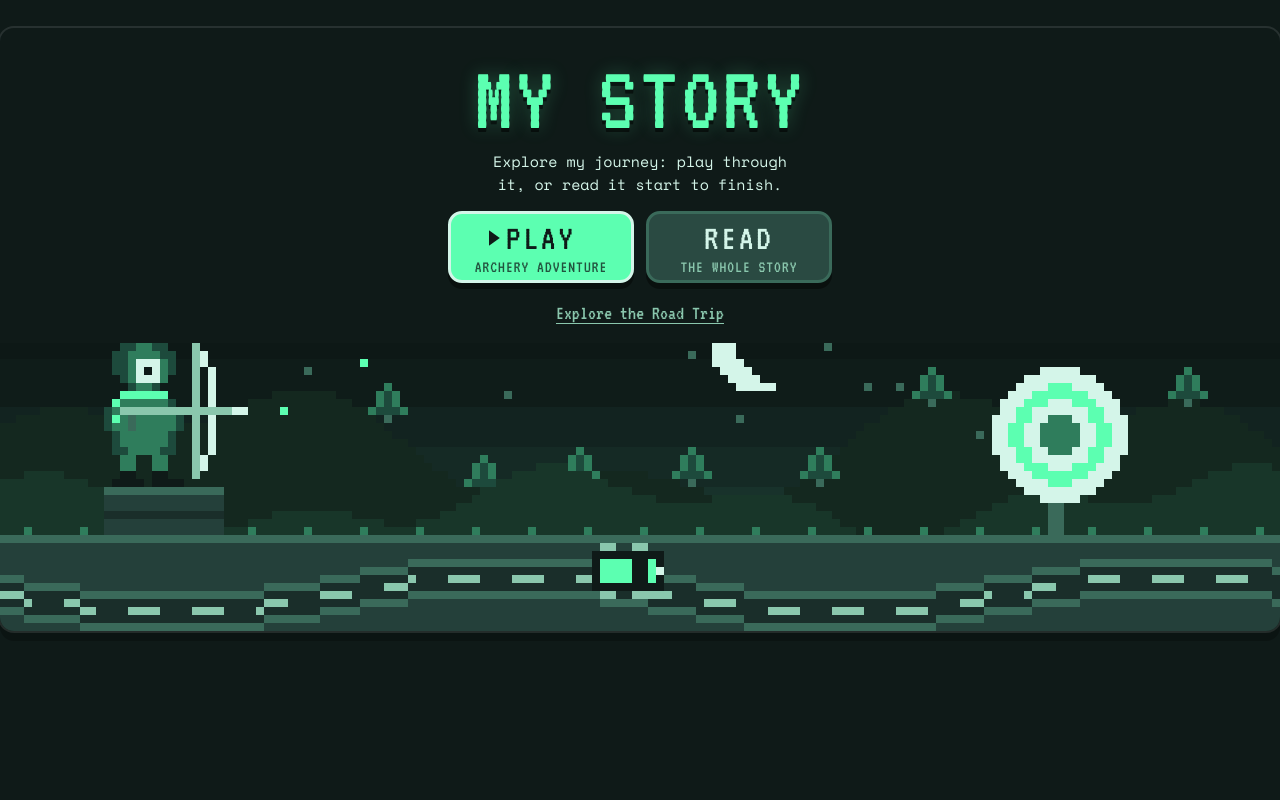
opening it › opening and closing a lot never leaves a dialog or a map behind
The image size is (1280, 800).
Earlier steps of the test are not shown.
Click the button "Explore the Road Trip" at point(640, 313), box left=544, top=291, right=736, bottom=335
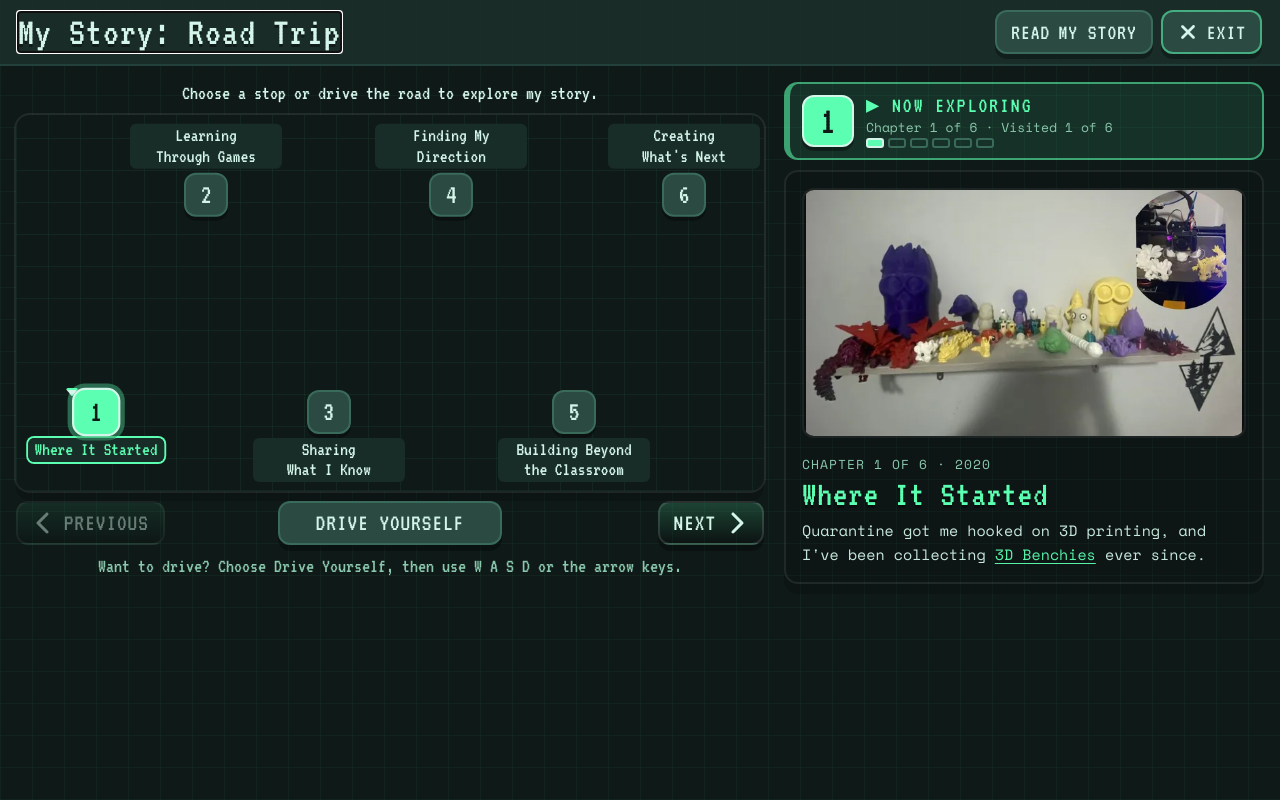
Expected: the dialog "My Story: Road Trip" is shown
Expected: the number of dialogs is 1
Click the button "Exit" at point(1211, 32), box left=1161, top=10, right=1262, bottom=54
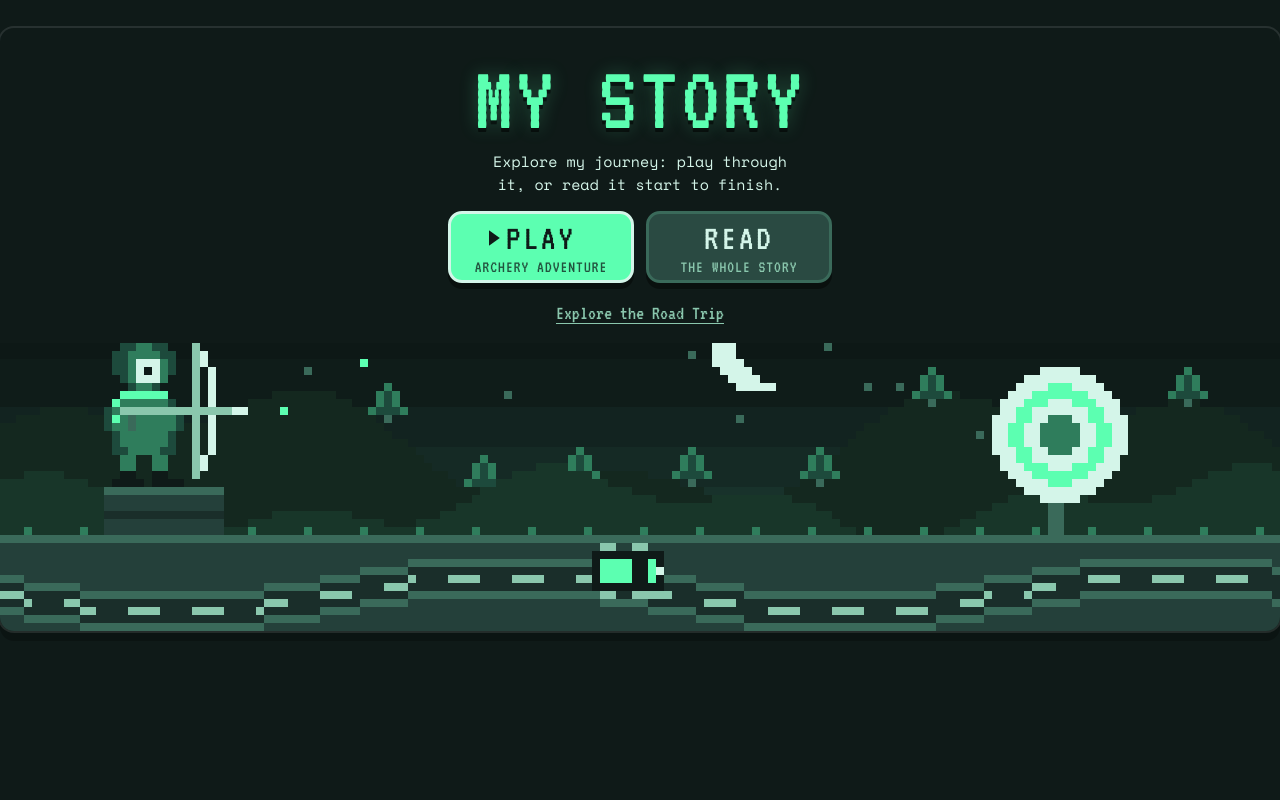
Expected: the dialog is gone
Click the button "Explore the Road Trip" at point(640, 313), box left=544, top=291, right=736, bottom=335
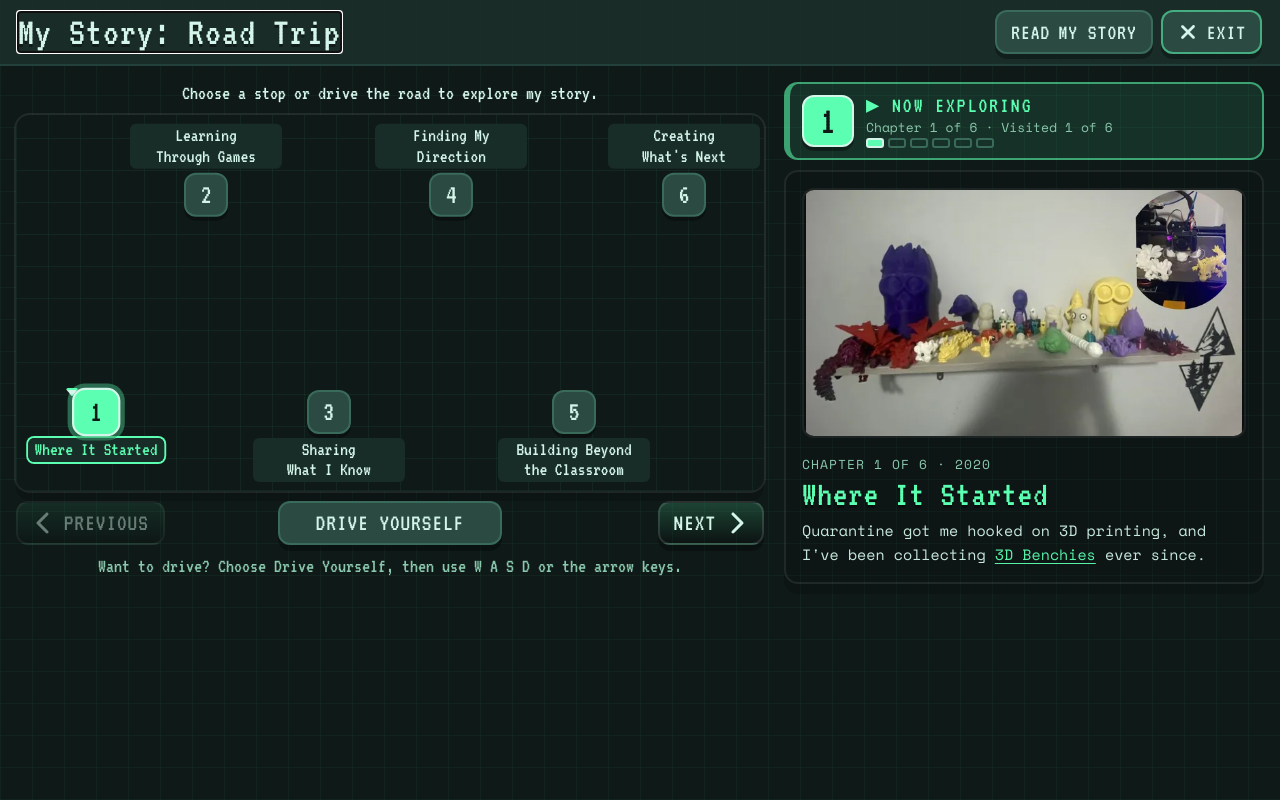
Expected: the dialog "My Story: Road Trip" is shown
Expected: the number of dialogs is 1
Click the button "Exit" at point(1211, 32), box left=1161, top=10, right=1262, bottom=54
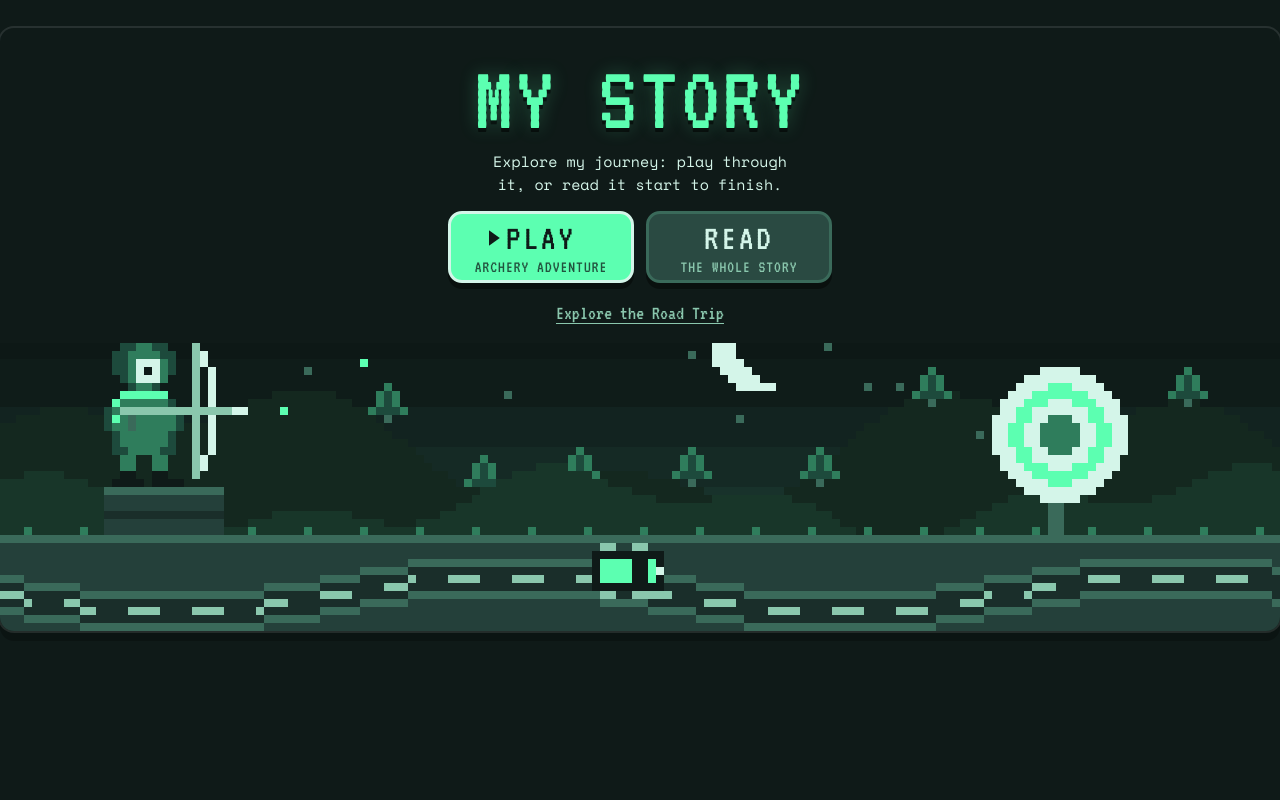
Expected: the dialog is gone
Click the button "Explore the Road Trip" at point(640, 313), box left=544, top=291, right=736, bottom=335
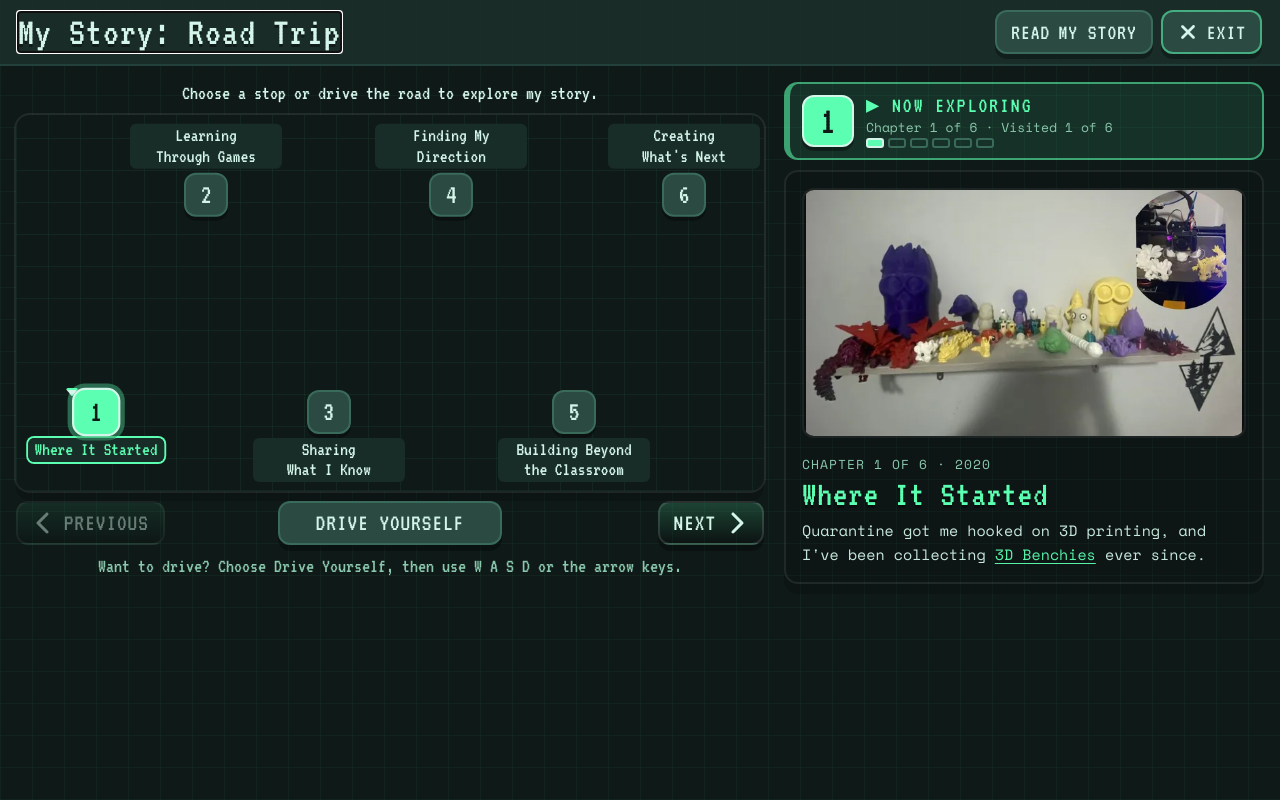
Expected: the dialog "My Story: Road Trip" is shown
Expected: the number of dialogs is 1
Click the button "Exit" at point(1211, 32), box left=1161, top=10, right=1262, bottom=54
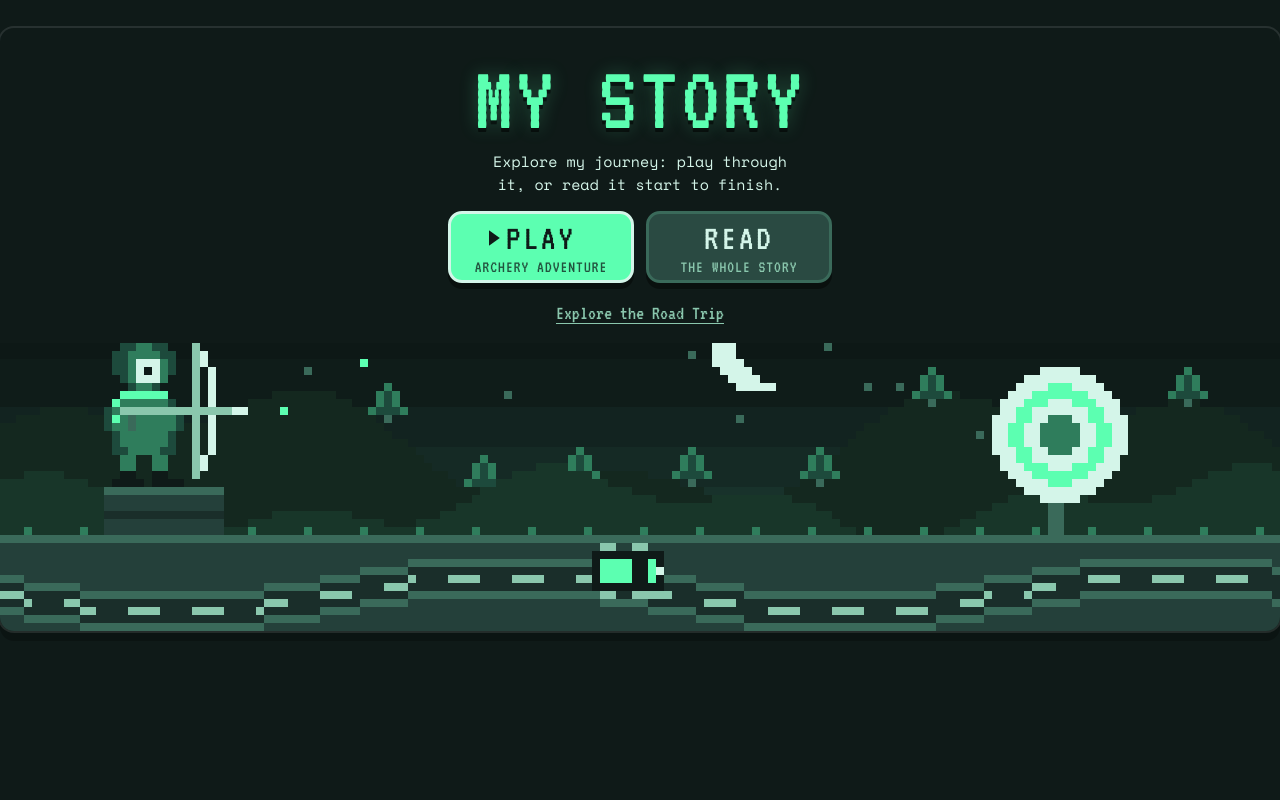
Expected: the dialog is gone
